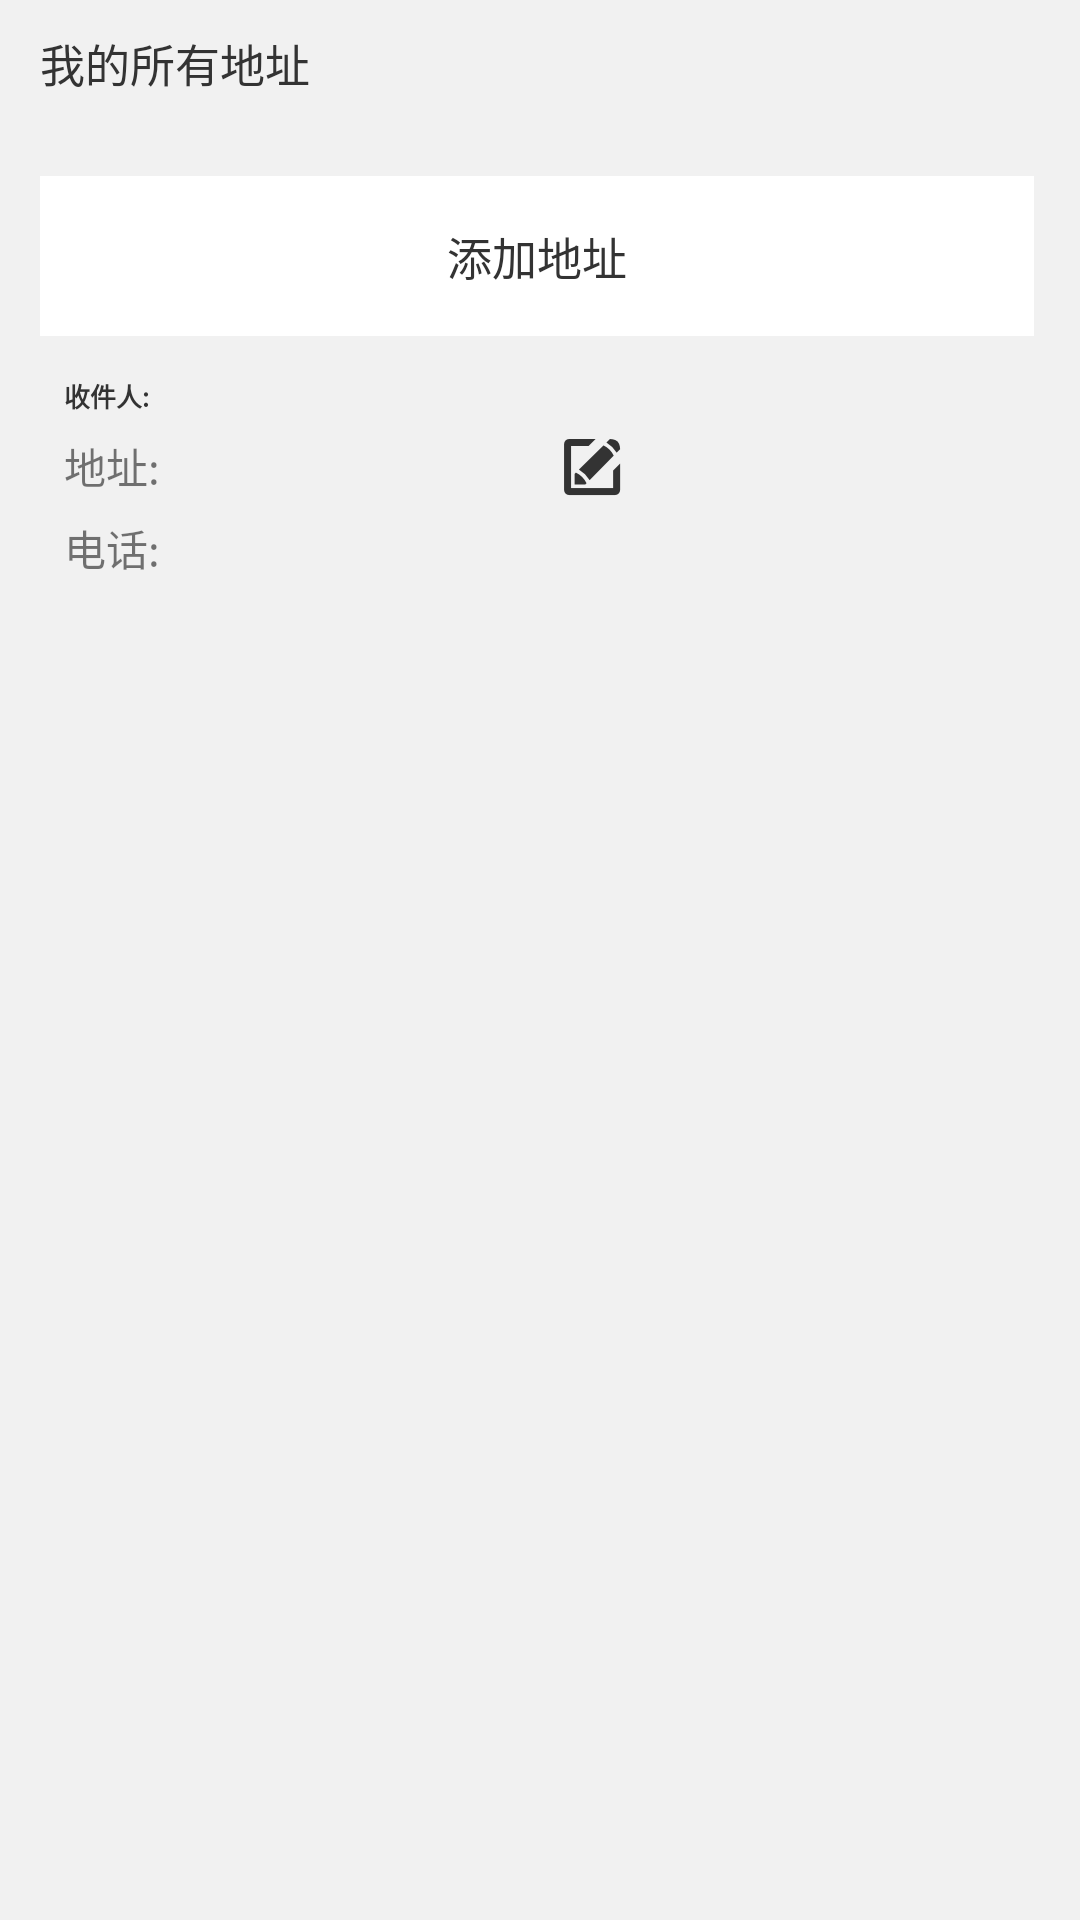

Locate icon controls on the screen. Image size 1080 x 1920, boxes as Rect(x1, y1, x2, y2).
edit: Rect(564, 439, 621, 495)
